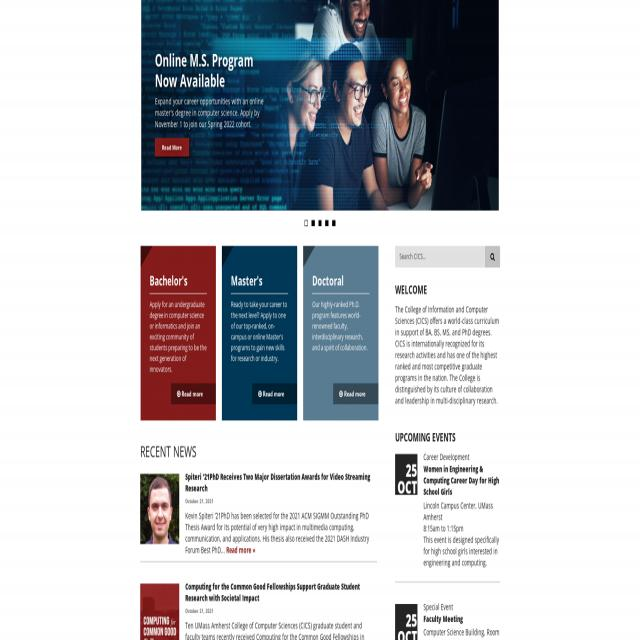button: (141, 0, 498, 210), (140, 246, 216, 420), (222, 246, 297, 421), (303, 245, 378, 419), (140, 474, 179, 544), (140, 584, 179, 640), (252, 384, 298, 404), (333, 384, 379, 404), (171, 384, 216, 404), (155, 136, 189, 156), (485, 246, 500, 267), (332, 220, 336, 227), (311, 220, 315, 226), (324, 220, 328, 226), (304, 220, 308, 226), (318, 220, 322, 226)
field: (395, 246, 500, 267)
